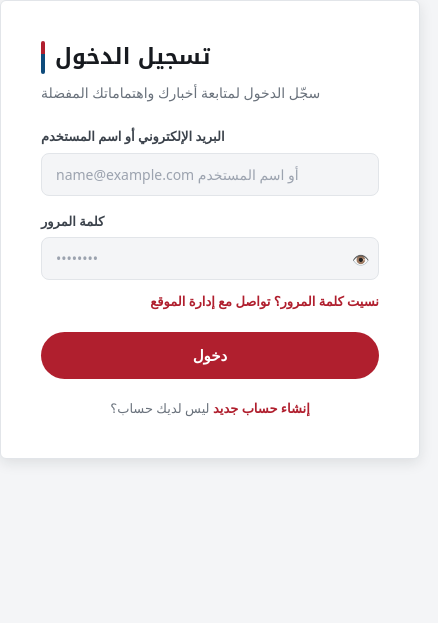
Test: LoginForm › registers with a name and reports registration failures in its own words
Click the button "إنشاء حساب جديد" at (261, 408), box [213,398,310,418]
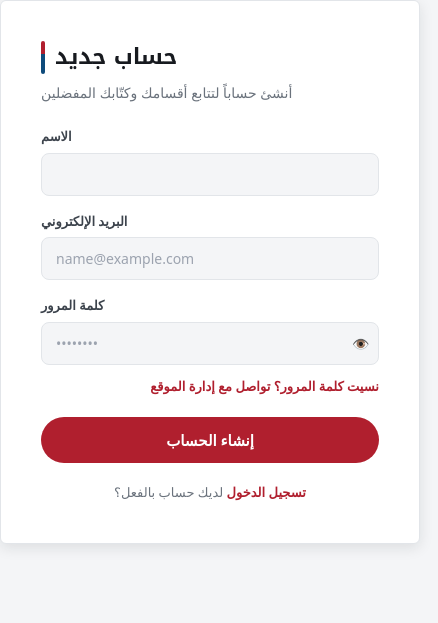
Type "منى" into the field labelled "الاسم" at (210, 174), box [41,152,379,196]
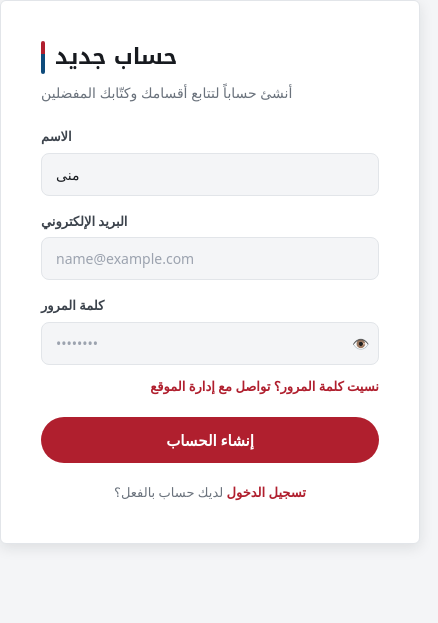
Type "mona@example.com" into the field labelled "البريد الإلكتروني" at (210, 258), box [41,237,379,280]
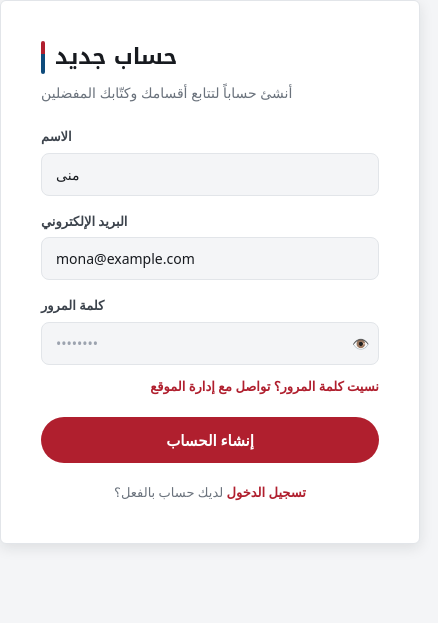
Type "hunter2" into the password field labelled "كلمة المرور" at (210, 343), box [41,322,379,364]
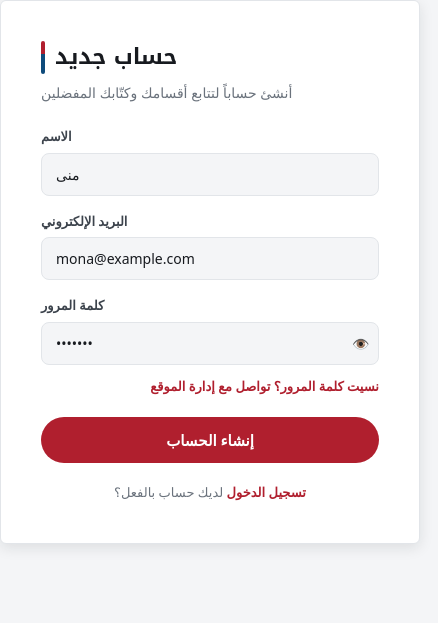
Click the button "إنشاء الحساب" at (210, 440), box [41,416,379,463]
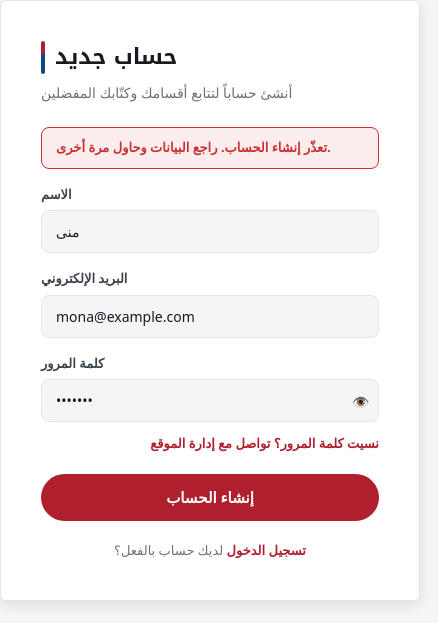
Check: the message shows "تعذّر إنشاء الحساب", box [56,138,331,156]
